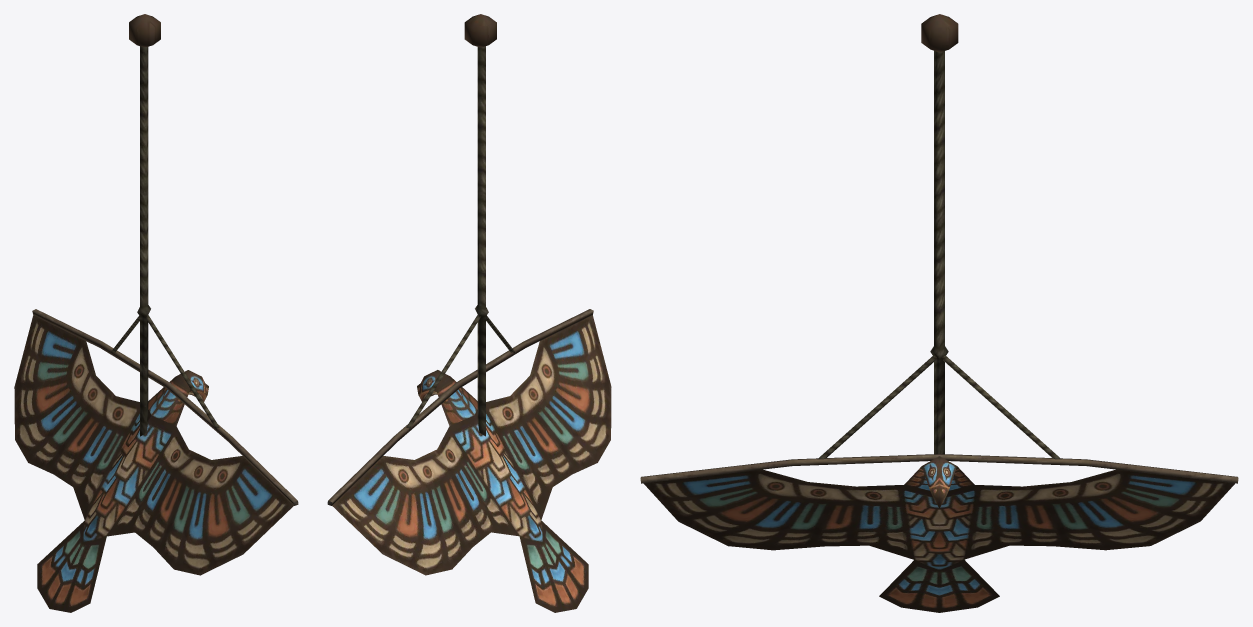
3 renders of one model, left to right at view 1: azimuth 30°, elevation 25°; view 2: azimuth 150°, elevation 25°; view 3: azimuth 270°, elevation 25°, orthographic. The views are drawn at different scales.
Size of the model in its own units: 3.3 by 11.28 by 9.38.
1 material, 1 textured.
